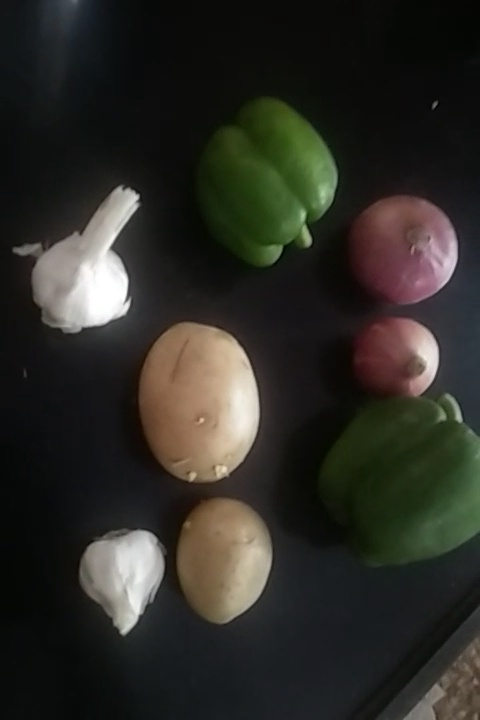capsicum: (310, 387, 480, 566), (202, 89, 342, 274)
garlic: (27, 179, 146, 335), (63, 516, 161, 638)
onion: (355, 194, 466, 307), (338, 313, 443, 397)
potato: (128, 318, 261, 487), (178, 499, 282, 619)
